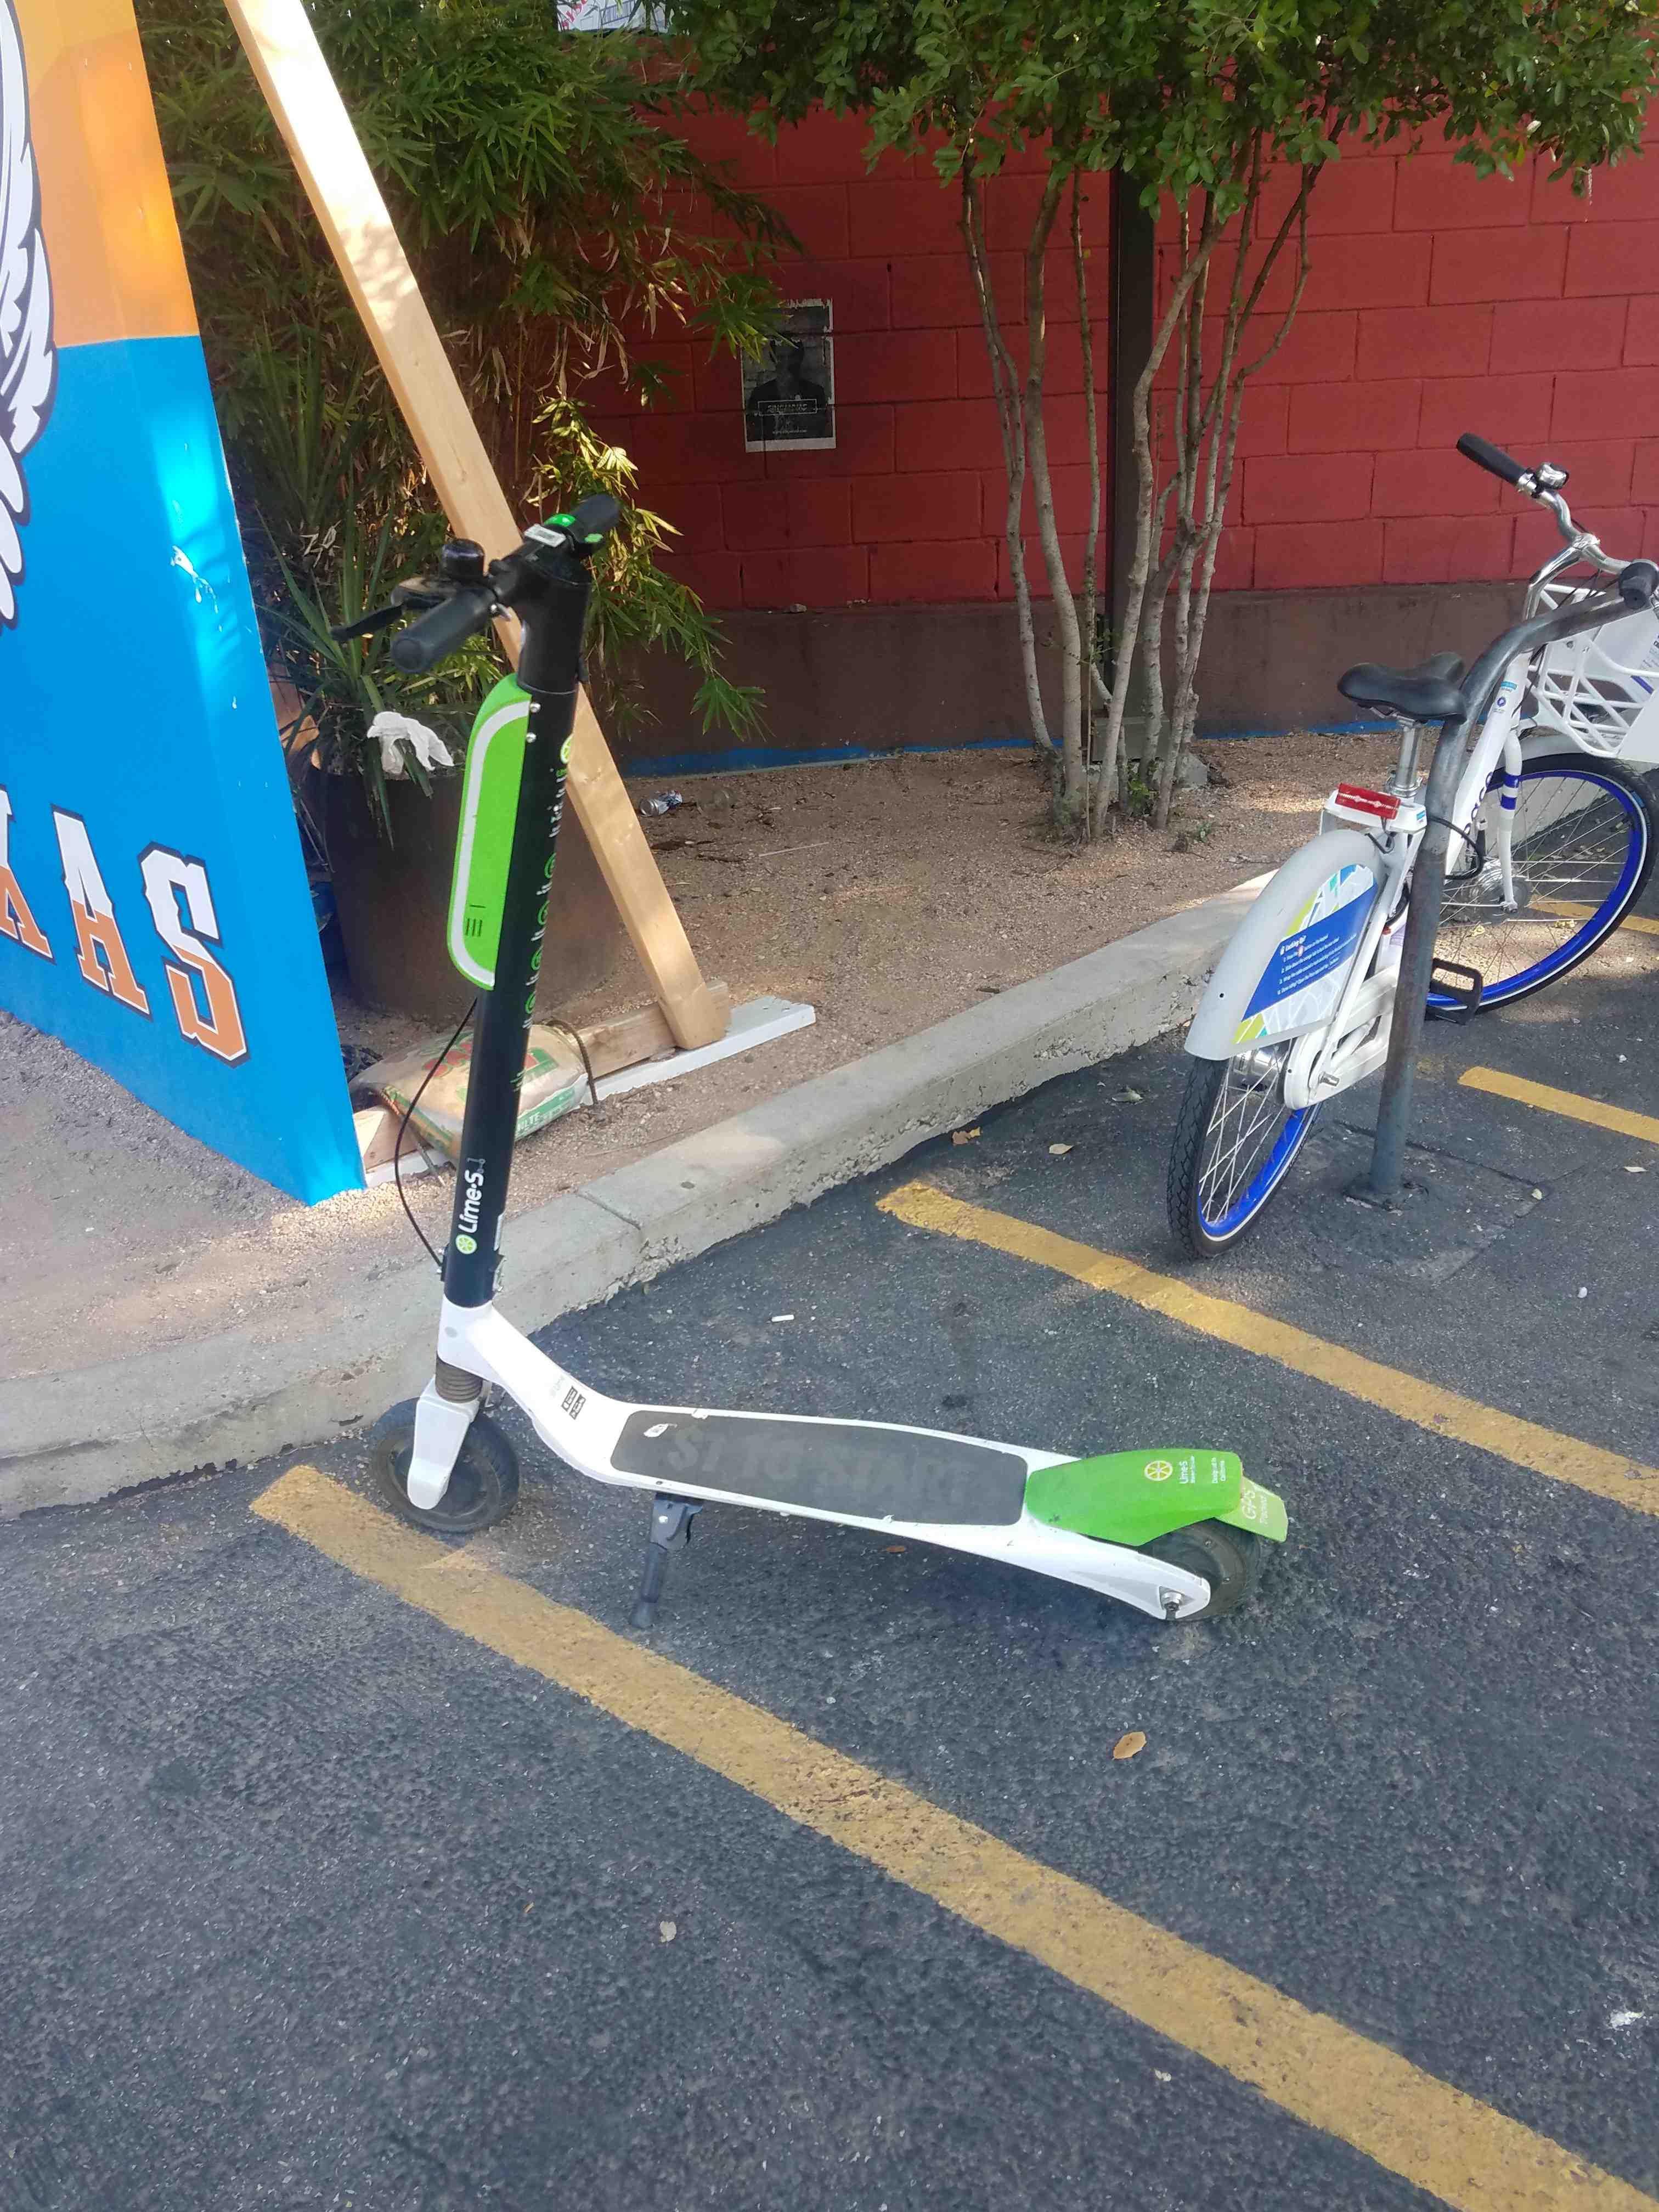scooter: (301, 475, 1309, 1637)
